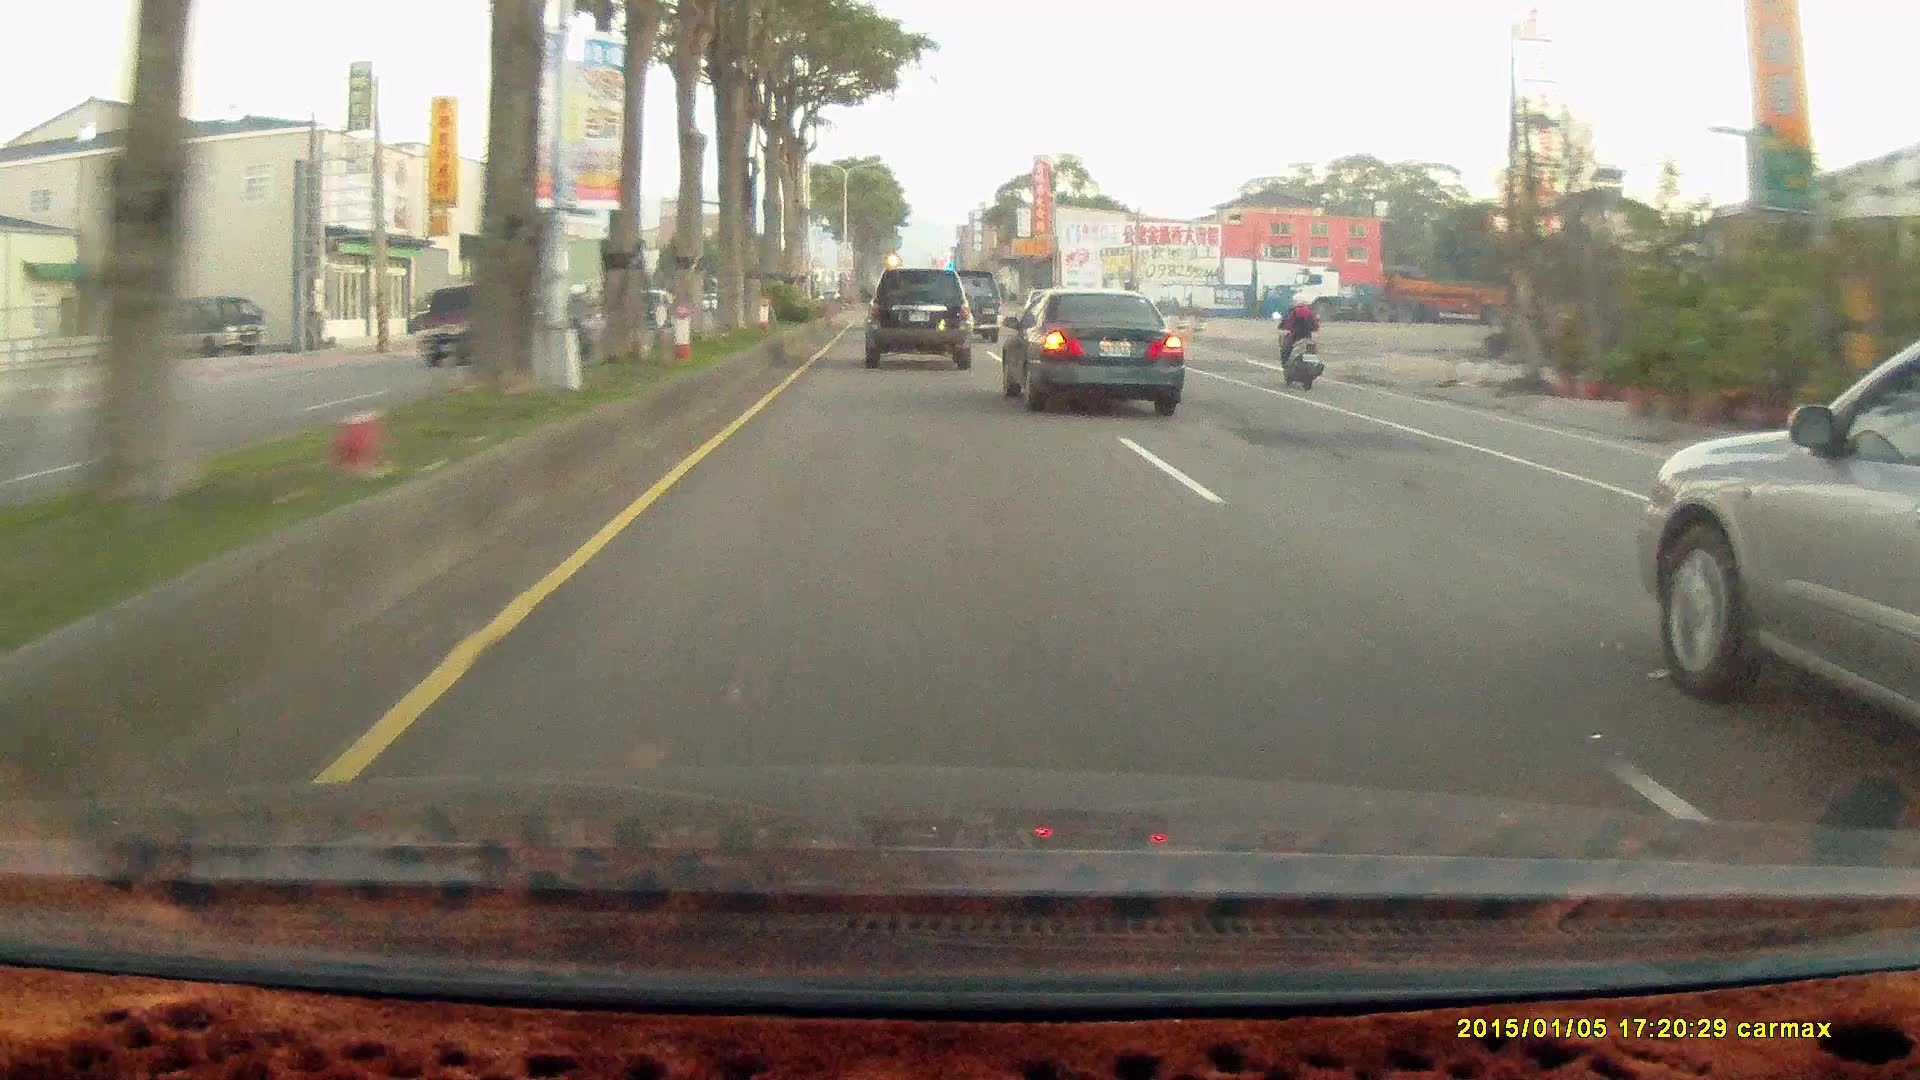rider: (1267, 286, 1332, 393), (1272, 287, 1325, 390)
vehicle: (1643, 336, 1918, 767), (1000, 290, 1189, 415), (1001, 285, 1184, 412), (1294, 265, 1544, 323), (864, 268, 976, 371), (860, 269, 973, 370), (415, 280, 523, 369), (156, 300, 265, 363), (155, 297, 264, 358), (934, 269, 1003, 344), (936, 272, 1005, 347)
